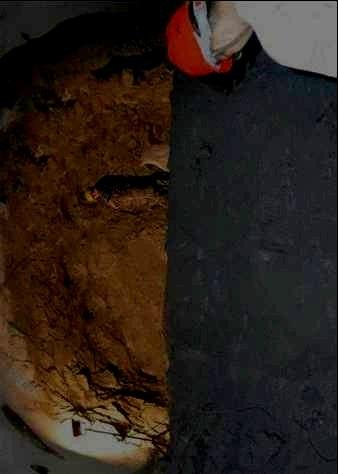helmet: (165, 1, 253, 77), (84, 186, 101, 203)
